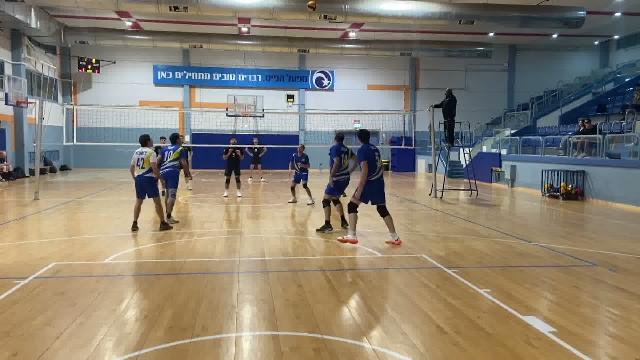ball: (304, 0, 321, 11)
